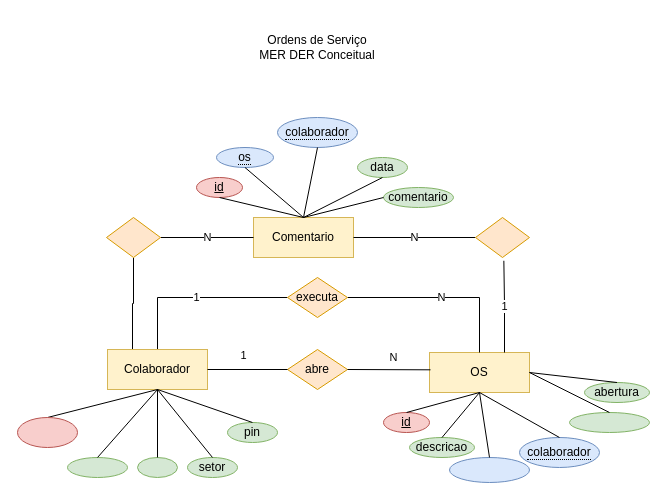
Image size: 667x500. Some labels were removed from this diagram. Each missing label, with the centre of its shape:
cargo: point 157,467
encerramento: point 609,422
executor: point 489,469
faz: point 133,237
matricula: point 47,432
nome: point 97,467
possui: point 502,237
